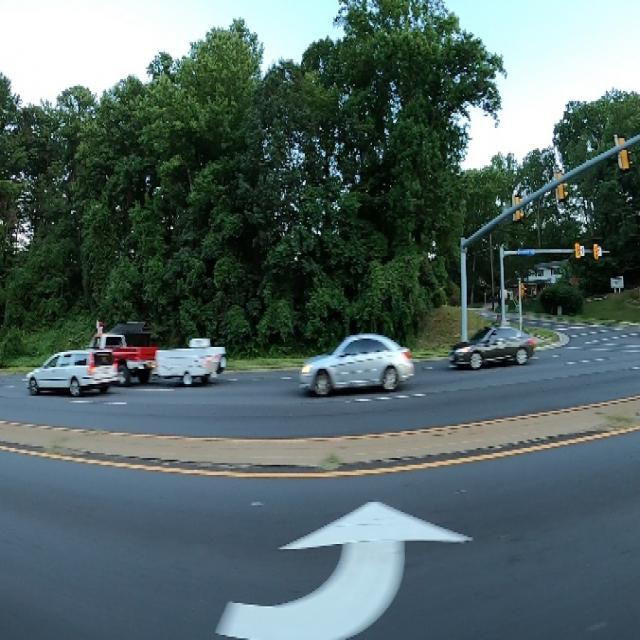car: (291, 317, 421, 411), (136, 330, 236, 394), (21, 342, 120, 402), (80, 318, 159, 391), (447, 311, 535, 374)
